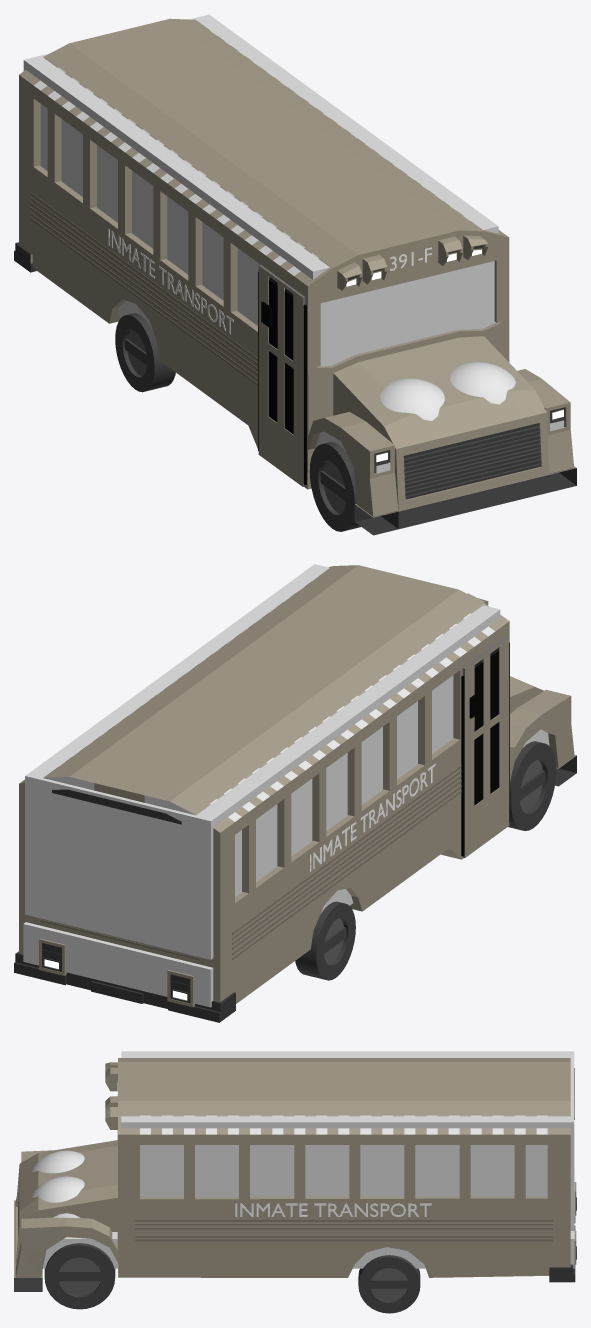
The model's file is prisontruck.glb.
The picture shows the model from 3 angles, top to bottom: view 1: azimuth 30°, elevation 25°; view 2: azimuth 150°, elevation 25°; view 3: azimuth 270°, elevation 25°; orthographic projection. The views are drawn at different scales.
Visible parts, largest first — view 1: PrisonTransport, Cube.002, door_2, wheel_fr, wheel, Sphere.003, Sphere, Cube.006; view 2: PrisonTransport, Cube.002, door_2, Cube.006, wheel_fr, wheel; view 3: PrisonTransport, Cube.002, wheel_fl, Cylinder.001, Cube.006, Sphere, Sphere.003.
Part boxes in pixels (x1,y1,x2,y2): PrisonTransport: [14, 18, 576, 535]; Cube.002: [23, 14, 498, 366]; door_2: [258, 265, 306, 486]; wheel_fr: [309, 442, 360, 531]; wheel: [115, 313, 175, 392]; Sphere.003: [380, 378, 444, 420]; Sphere: [450, 362, 515, 404]; Cube.006: [118, 300, 563, 473]; PrisonTransport: [14, 565, 576, 1022]; Cube.002: [25, 564, 500, 959]; door_2: [461, 636, 509, 857]; Cube.006: [23, 729, 549, 1007]; wheel_fr: [508, 741, 556, 830]; wheel: [295, 901, 355, 980]; PrisonTransport: [14, 1058, 576, 1291]; Cube.002: [121, 1051, 574, 1230]; wheel_fl: [44, 1243, 115, 1309]; Cylinder.001: [358, 1255, 420, 1313]; Cube.006: [43, 1167, 574, 1268]; Sphere: [31, 1176, 84, 1217]; Sphere.003: [32, 1150, 84, 1173].
Size of the model in its own units: 1.88 by 2.16 by 5.65.
